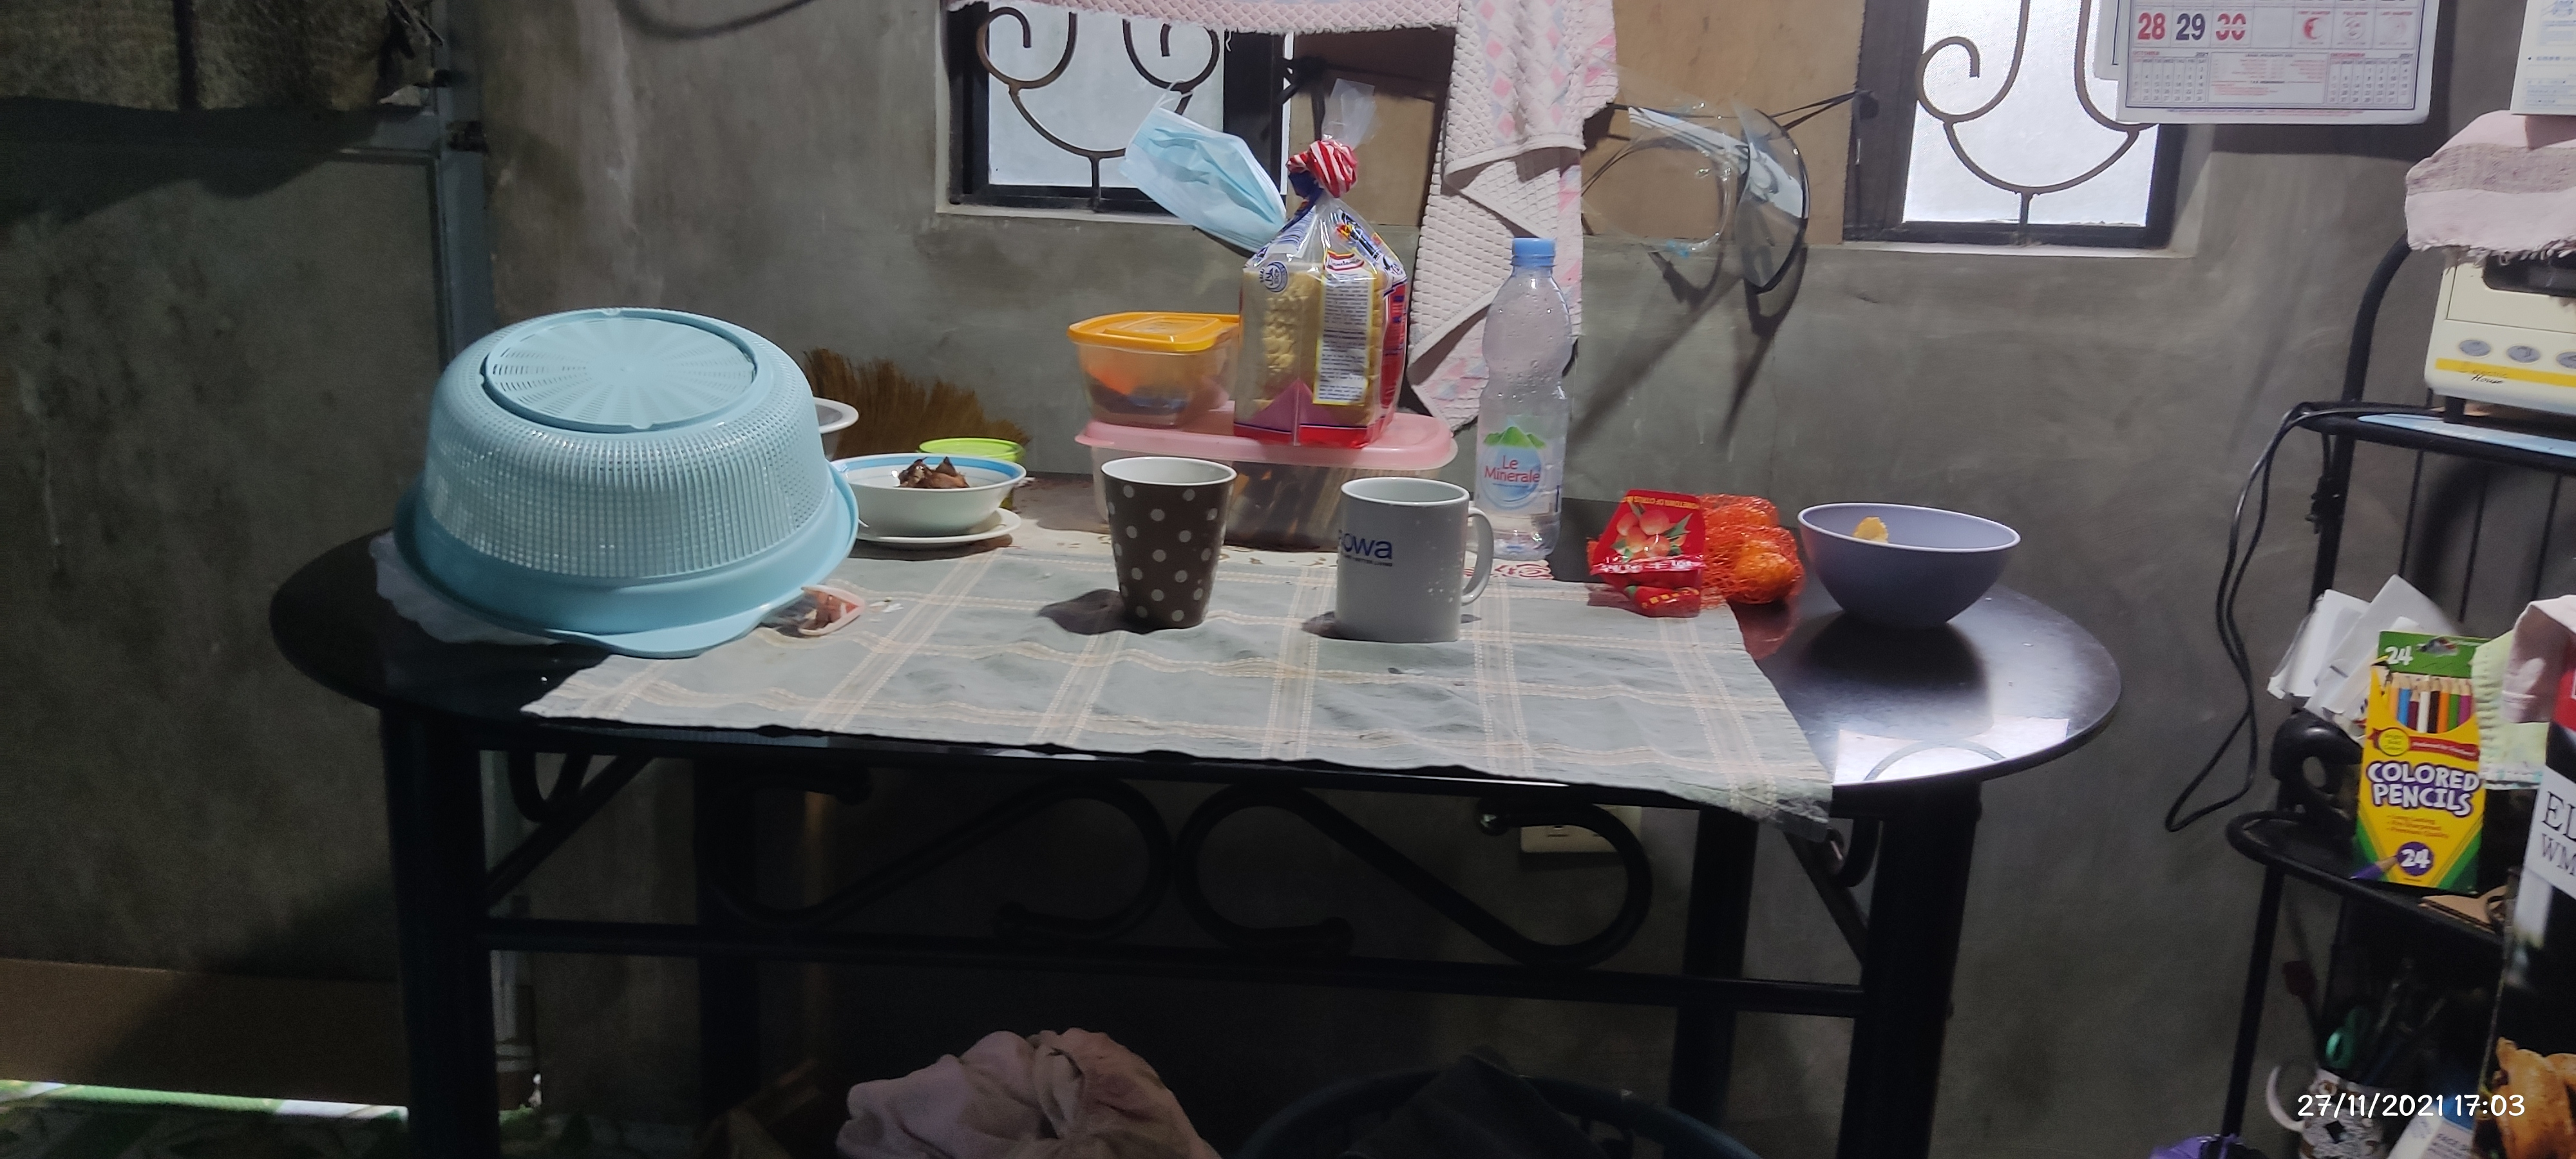mug: (1337, 474, 1497, 642), (1102, 456, 1229, 630)
